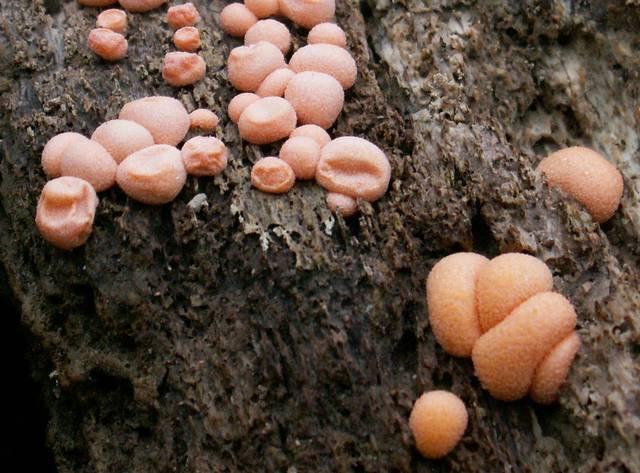Non-edible Mushroom: (33, 0, 392, 248), (219, 0, 391, 216), (470, 290, 581, 403), (535, 144, 624, 223), (425, 250, 489, 357), (314, 134, 391, 215), (33, 174, 98, 249), (114, 142, 187, 204), (407, 388, 468, 459)
